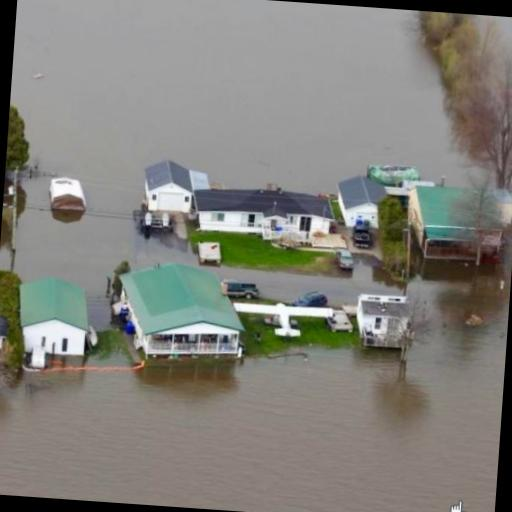flood: (0, 0, 473, 328), (0, 239, 512, 512), (204, 266, 403, 308), (480, 15, 512, 69)
house: (100, 250, 260, 374), (392, 181, 510, 272), (12, 270, 98, 376), (197, 182, 327, 245), (137, 156, 209, 220), (328, 170, 392, 241), (355, 289, 414, 351), (44, 172, 88, 222)
